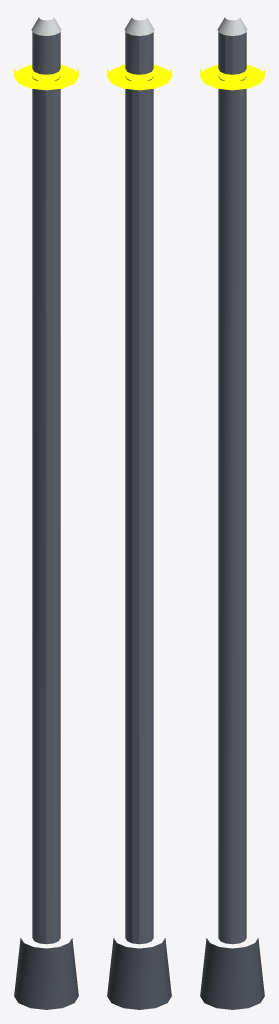
The model's file is ext_street_light_pole_02.glb.
3 renders of one model, left to right at view 1: azimuth 90°, elevation 25°; view 2: azimuth 150°, elevation 25°; view 3: azimuth 270°, elevation 25°, orthographic.
Visible parts, largest first — view 1: Pole, Base, Halo, Cap; view 2: Pole, Base, Halo, Cap; view 3: Pole, Base, Halo, Cap.
Boxes of the visible parts, x1,y1,x2,y2 form: Pole: (32,32,60,944); Base: (14,938,78,1009); Halo: (14,64,78,90); Cap: (31,17,61,35); Pole: (125,32,153,944); Base: (107,938,171,1009); Halo: (107,64,171,90); Cap: (124,17,154,35); Pole: (218,32,246,944); Base: (200,938,264,1009); Halo: (200,64,264,90); Cap: (217,17,247,35).
Bounding box in the file's own units: 0.3 × 5 × 0.3.
